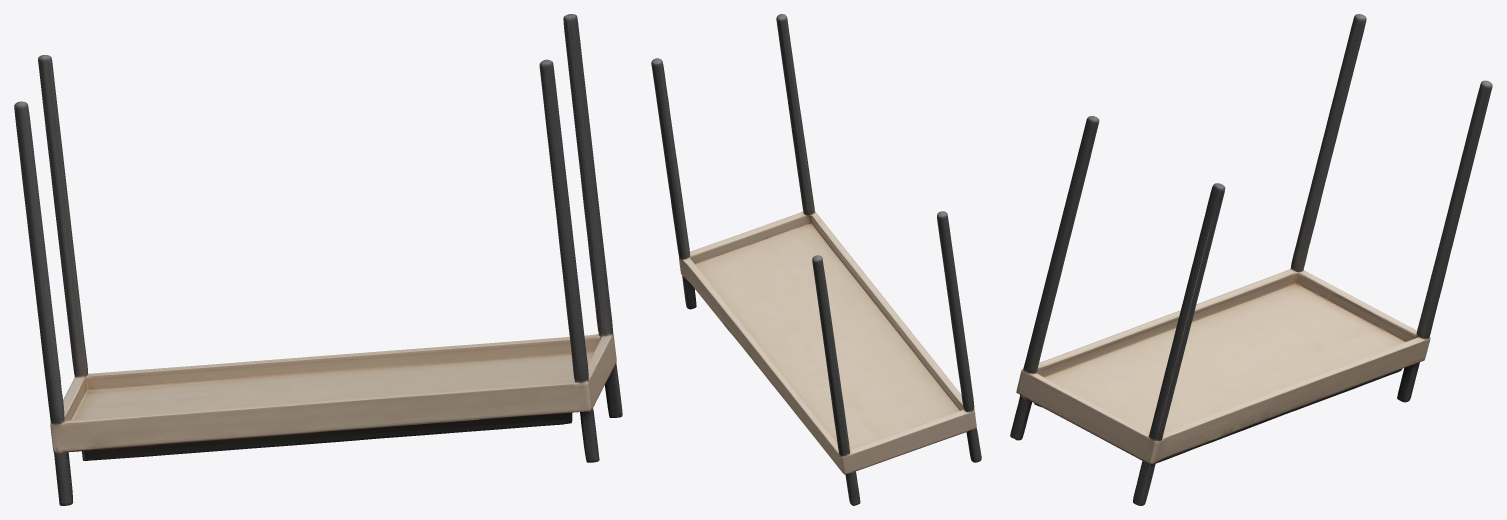
The model's file is upside-down_black_metal_table_frame_on_back_row_left_table_000.glb.
3 views of the same model, side by side, from view 1: azimuth 30°, elevation 25°; view 2: azimuth 150°, elevation 25°; view 3: azimuth 270°, elevation 25° (orthographic). The views are drawn at different scales.
Visible parts, largest first — view 1: upside-down_black_metal_table_frame_on_back_row_left_table_0; view 2: upside-down_black_metal_table_frame_on_back_row_left_table_0; view 3: upside-down_black_metal_table_frame_on_back_row_left_table_0.
Boxes of the visible parts, bbox=[...] form: upside-down_black_metal_table_frame_on_back_row_left_table_0: bbox=[14, 14, 622, 505]; upside-down_black_metal_table_frame_on_back_row_left_table_0: bbox=[651, 14, 981, 505]; upside-down_black_metal_table_frame_on_back_row_left_table_0: bbox=[1010, 14, 1492, 505].
Size of the model in its own units: 0.572 by 0.5256 by 0.5715.
Materials: 1 (1 with a texture image).
